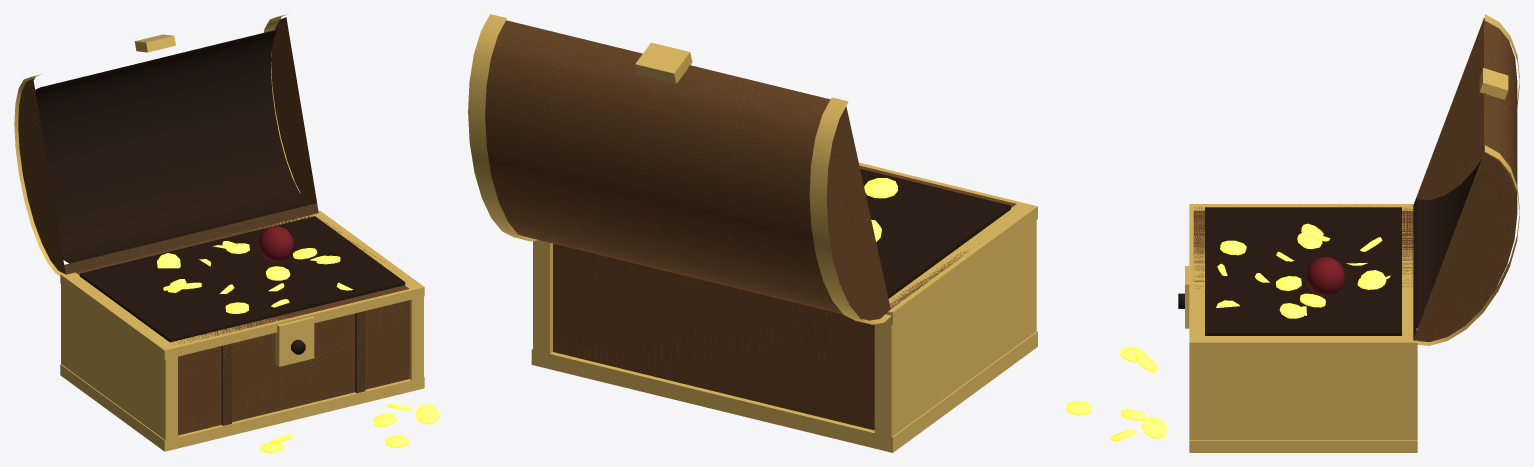
Rendered from chest_used.glb.
The picture shows the model from 3 angles, left to right: view 1: azimuth 30°, elevation 25°; view 2: azimuth 150°, elevation 25°; view 3: azimuth 270°, elevation 25°; orthographic projection. The views are drawn at different scales.
Parts seen in each view (by area): view 1: prop_chest_used; view 2: prop_chest_used; view 3: prop_chest_used.
Boxes of the visible parts, x1=… form: prop_chest_used: x1=14, y1=14, x2=439, y2=452; prop_chest_used: x1=468, y1=14, x2=1037, y2=452; prop_chest_used: x1=1066, y1=14, x2=1519, y2=452.
Size of the model in its own units: 1.48 by 1.56 by 2.05.
3 materials, 1 textured.
